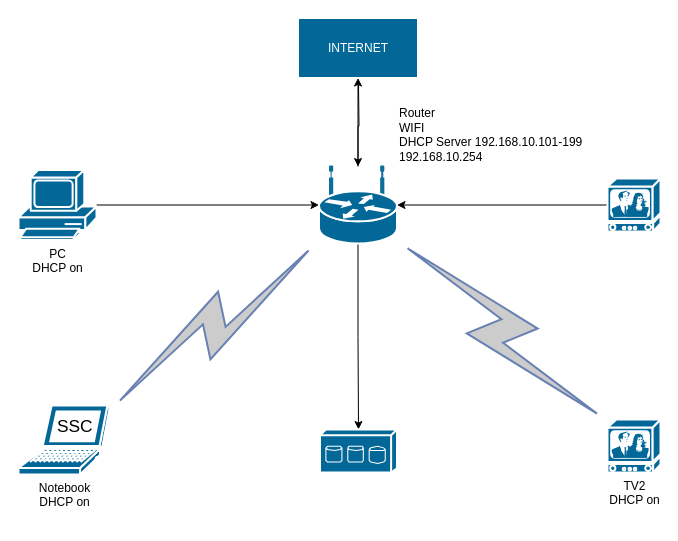
Some shapes in this 678 by 541 pixel diagram are drawn without their labels. Each missing label, with the box of its shape:
NAS 192.168.10.10: (318, 428, 398, 473)
TV1 DHCP on: (606, 177, 661, 232)
